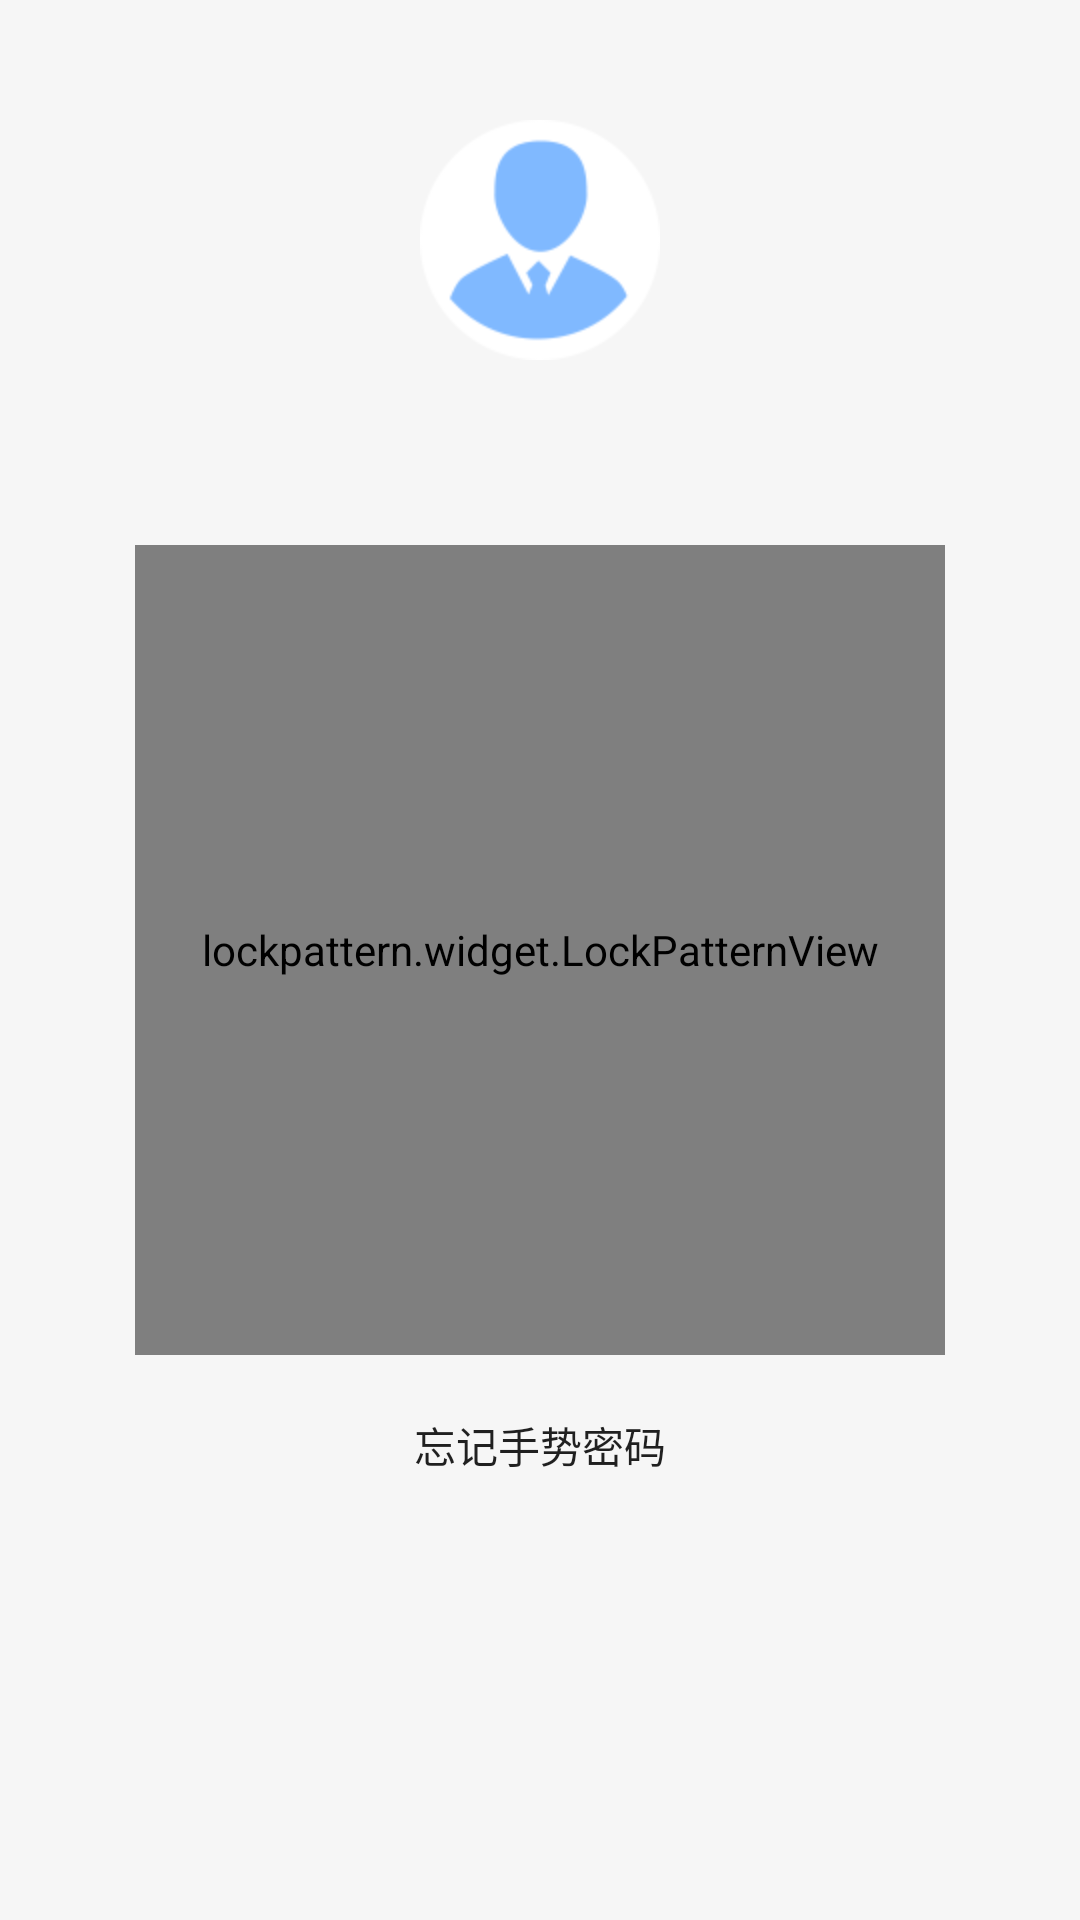

Screen size 1080 × 1920. Icon name, then its center in pixels as (x=x, y=y):
head: (x=538, y=240)
